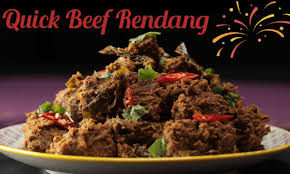rendang: (10, 26, 283, 170)
